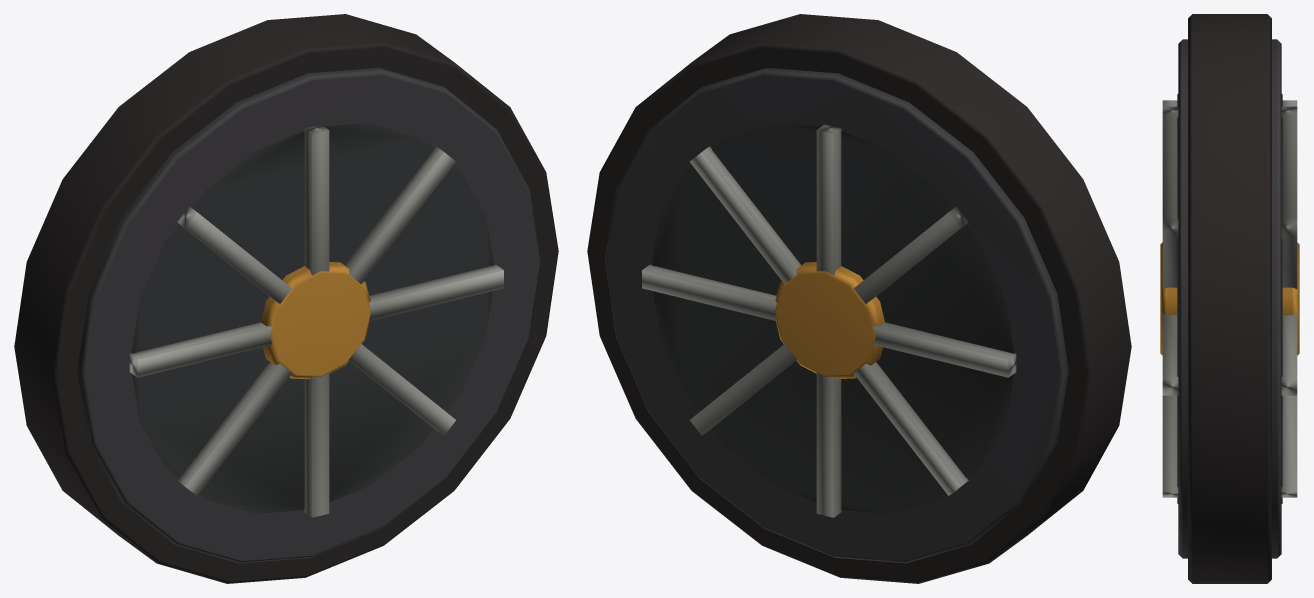
File: wheel_billy.glb
3 renders of one model, left to right at view 1: azimuth 30°, elevation 25°; view 2: azimuth 150°, elevation 25°; view 3: azimuth 270°, elevation 25°, orthographic.
Visible parts, largest first — view 1: Pram wheel band; view 2: Pram wheel band; view 3: Pram wheel band.
Boxes of the visible parts, bbox=[...] form: Pram wheel band: bbox=[14, 14, 558, 583]; Pram wheel band: bbox=[587, 14, 1131, 583]; Pram wheel band: bbox=[1160, 14, 1299, 583].
Size of the model in its own units: 0.76 by 0.76 by 0.184.
